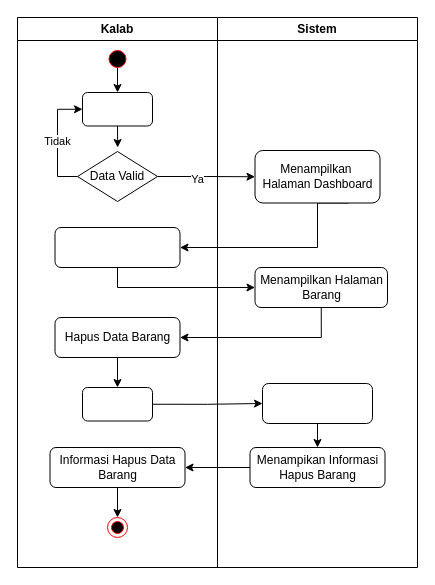
This 435x585 diagram has some shape labels left out. Each missing label, with the centre of its shape:
"Data Dihapus Dari Database" belongs at point (317, 403).
"Login" belongs at point (117, 109).
"Pilih Halaman Barang" belongs at point (117, 247).
"Submit" belongs at point (117, 403).
